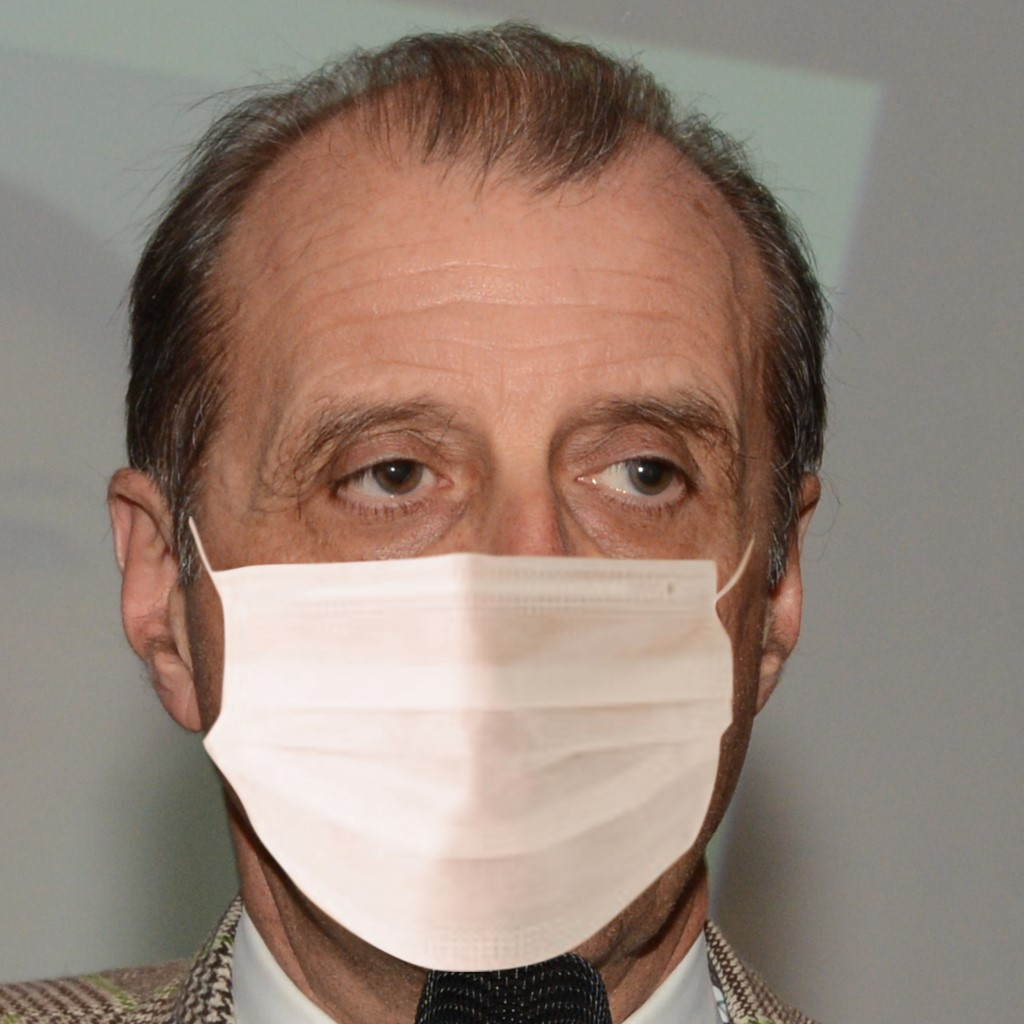con_mascara: (133, 105, 808, 971)
